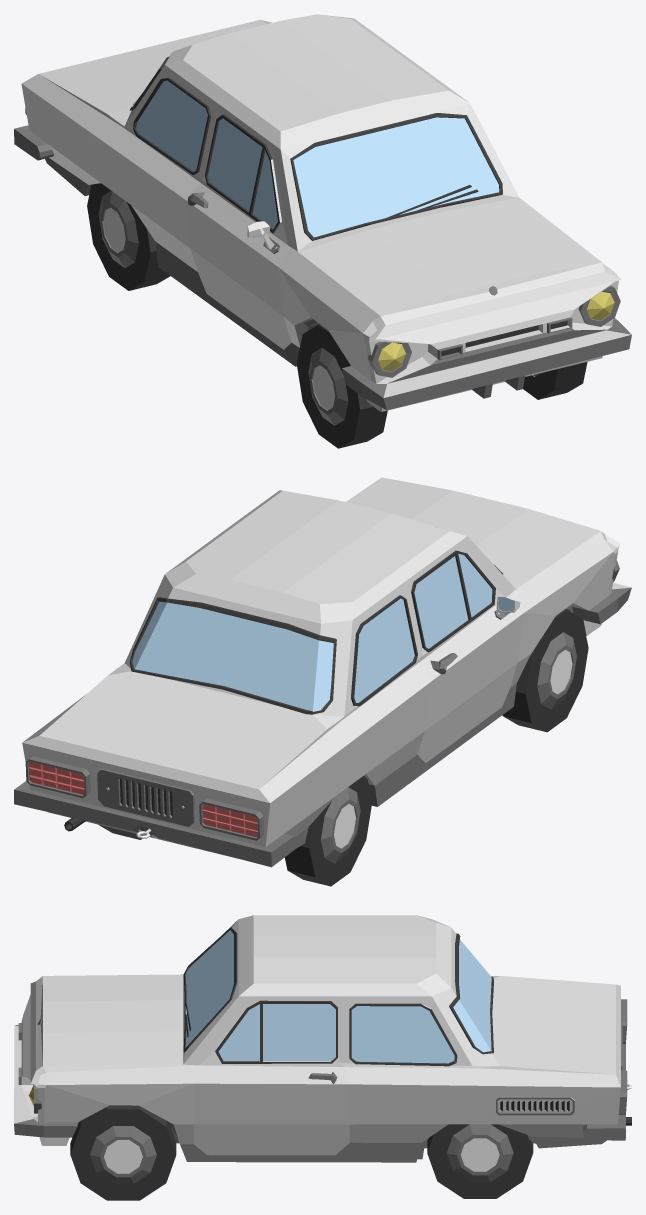
File: low-poly_retro_car.glb
3 views of the same model, one above another, from view 1: azimuth 30°, elevation 25°; view 2: azimuth 150°, elevation 25°; view 3: azimuth 270°, elevation 25° (orthographic). The views are drawn at different scales.
Visible parts, largest first — view 1: Cube_2, Cylinder.002_5, Cylinder.003_6, Cylinder.001_4, Cylinder_3; view 2: Cube_2, Cylinder.002_5, Cylinder.003_6; view 3: Cube_2, Cylinder.002_5, Cylinder.003_6.
Boxes of the visible parts, x1,y1,x2,y2 form: Cube_2: [14, 14, 631, 411]; Cylinder.002_5: [296, 324, 587, 448]; Cylinder.003_6: [87, 183, 170, 290]; Cylinder.001_4: [367, 341, 411, 377]; Cylinder_3: [578, 286, 620, 326]; Cube_2: [14, 477, 631, 867]; Cylinder.002_5: [502, 609, 588, 732]; Cylinder.003_6: [98, 776, 372, 886]; Cube_2: [14, 915, 627, 1162]; Cylinder.002_5: [70, 1105, 176, 1200]; Cylinder.003_6: [427, 1124, 533, 1198].
Size of the model in its own units: 1.6 by 1.43 by 3.84.
